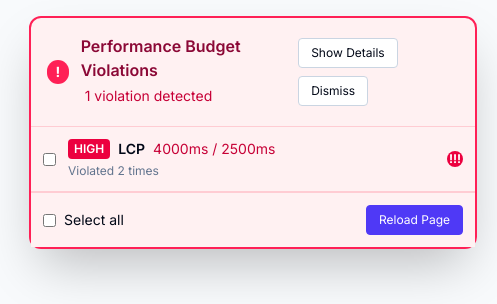
Test case: BudgetViolationBanner › toggles extended details
The image size is (497, 304).
Click the button "Show Details" at (348, 53), box top-left (298, 38), bottom-right (398, 68)
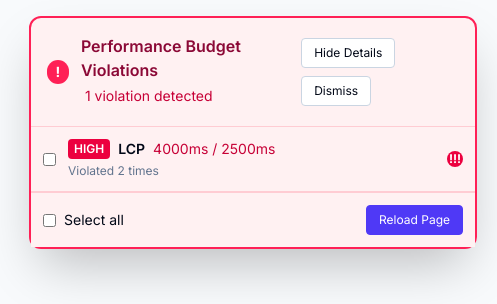
Check: the button "Hide Details" is shown, box top-left (301, 38), bottom-right (395, 68)
